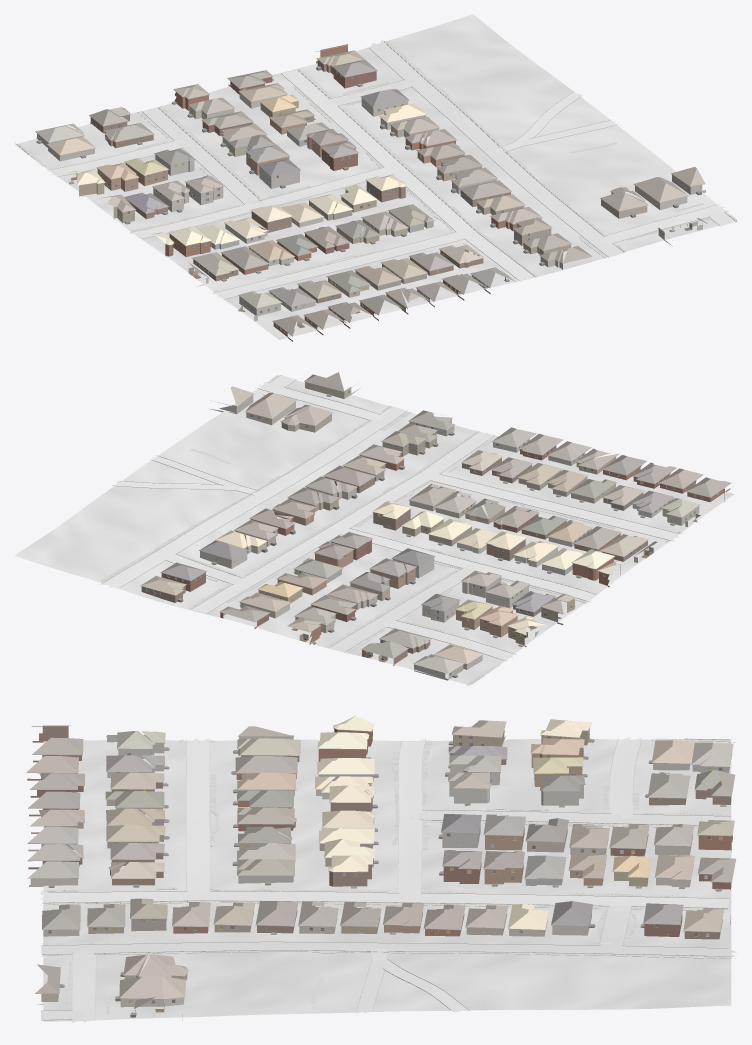
3 views of the same model, one above another, from view 1: azimuth 30°, elevation 25°; view 2: azimuth 150°, elevation 25°; view 3: azimuth 270°, elevation 25° (orthographic). The views are drawn at different scales.
Parts seen in each view (by area): view 1: ground, roof, concrete, wall, walk, detail, curb, wall_stucco, wall_stone, glass; view 2: ground, roof, concrete, wall, detail, walk, curb, wall_stucco, wall_stone, glass; view 3: ground, roof, concrete, wall, walk, curb, detail, wall_stucco, wall_stone, glass.
Boxes of the visible parts, x1,y1,x2,y2 form: ground: (15,14,737,339); roof: (35,50,707,335); concrete: (46,40,735,298); wall: (79,44,647,341); walk: (17,41,737,301); detail: (36,44,705,336); curb: (14,40,736,299); wall_stucco: (36,89,687,307); wall_stone: (48,132,705,321); glass: (38,71,663,332); ground: (14,375,734,685); roof: (140,372,731,673); concrete: (101,375,678,661); wall: (141,414,730,665); detail: (141,381,733,677); walk: (100,375,681,684); curb: (101,375,680,685); wall_stucco: (200,382,637,680); wall_stone: (210,395,699,669); glass: (146,391,722,675); ground: (43,739,731,1021); roof: (26,715,736,1008); concrete: (40,737,736,1022); wall: (27,725,731,979); walk: (42,738,732,1021); curb: (41,737,736,1020); detail: (26,723,732,1017); wall_stucco: (28,735,732,1007); wall_stone: (43,735,690,1020); glass: (43,727,722,1003).
Size of the model in its own units: 265 by 14.91 by 263.
